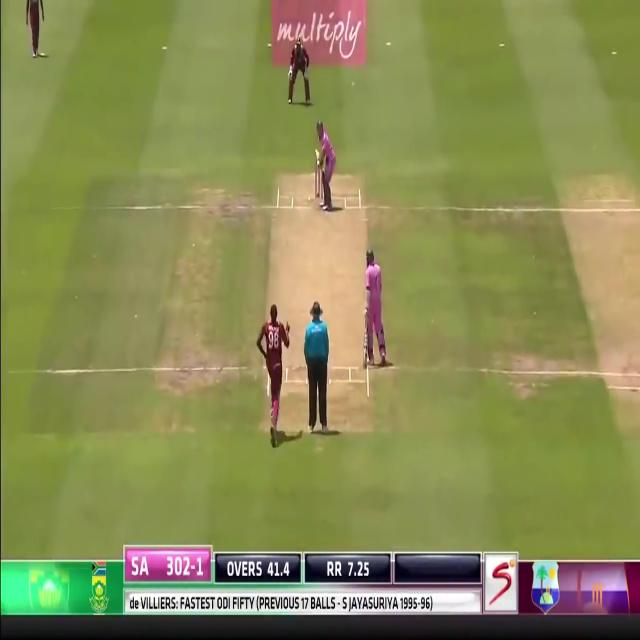Ball: (364, 247, 389, 365), (314, 119, 338, 212)
Fielder: (258, 301, 289, 440), (287, 27, 310, 105), (25, 0, 44, 58)
Umpire: (303, 300, 331, 438)
